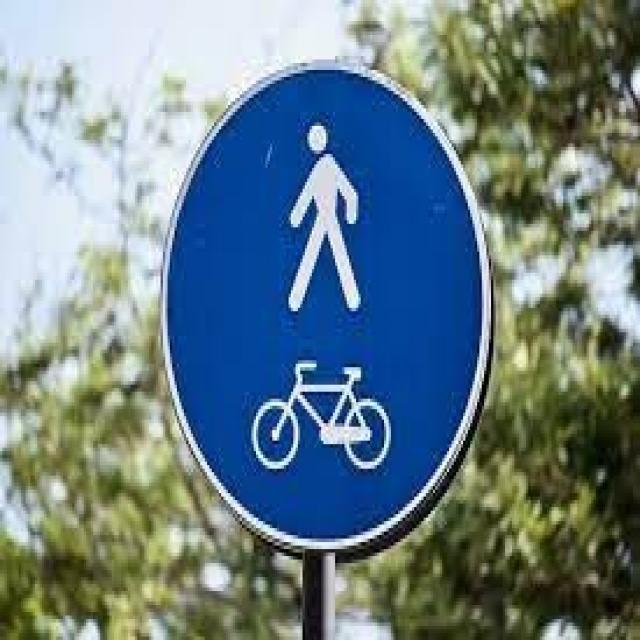bicycle: (154, 46, 498, 556)
